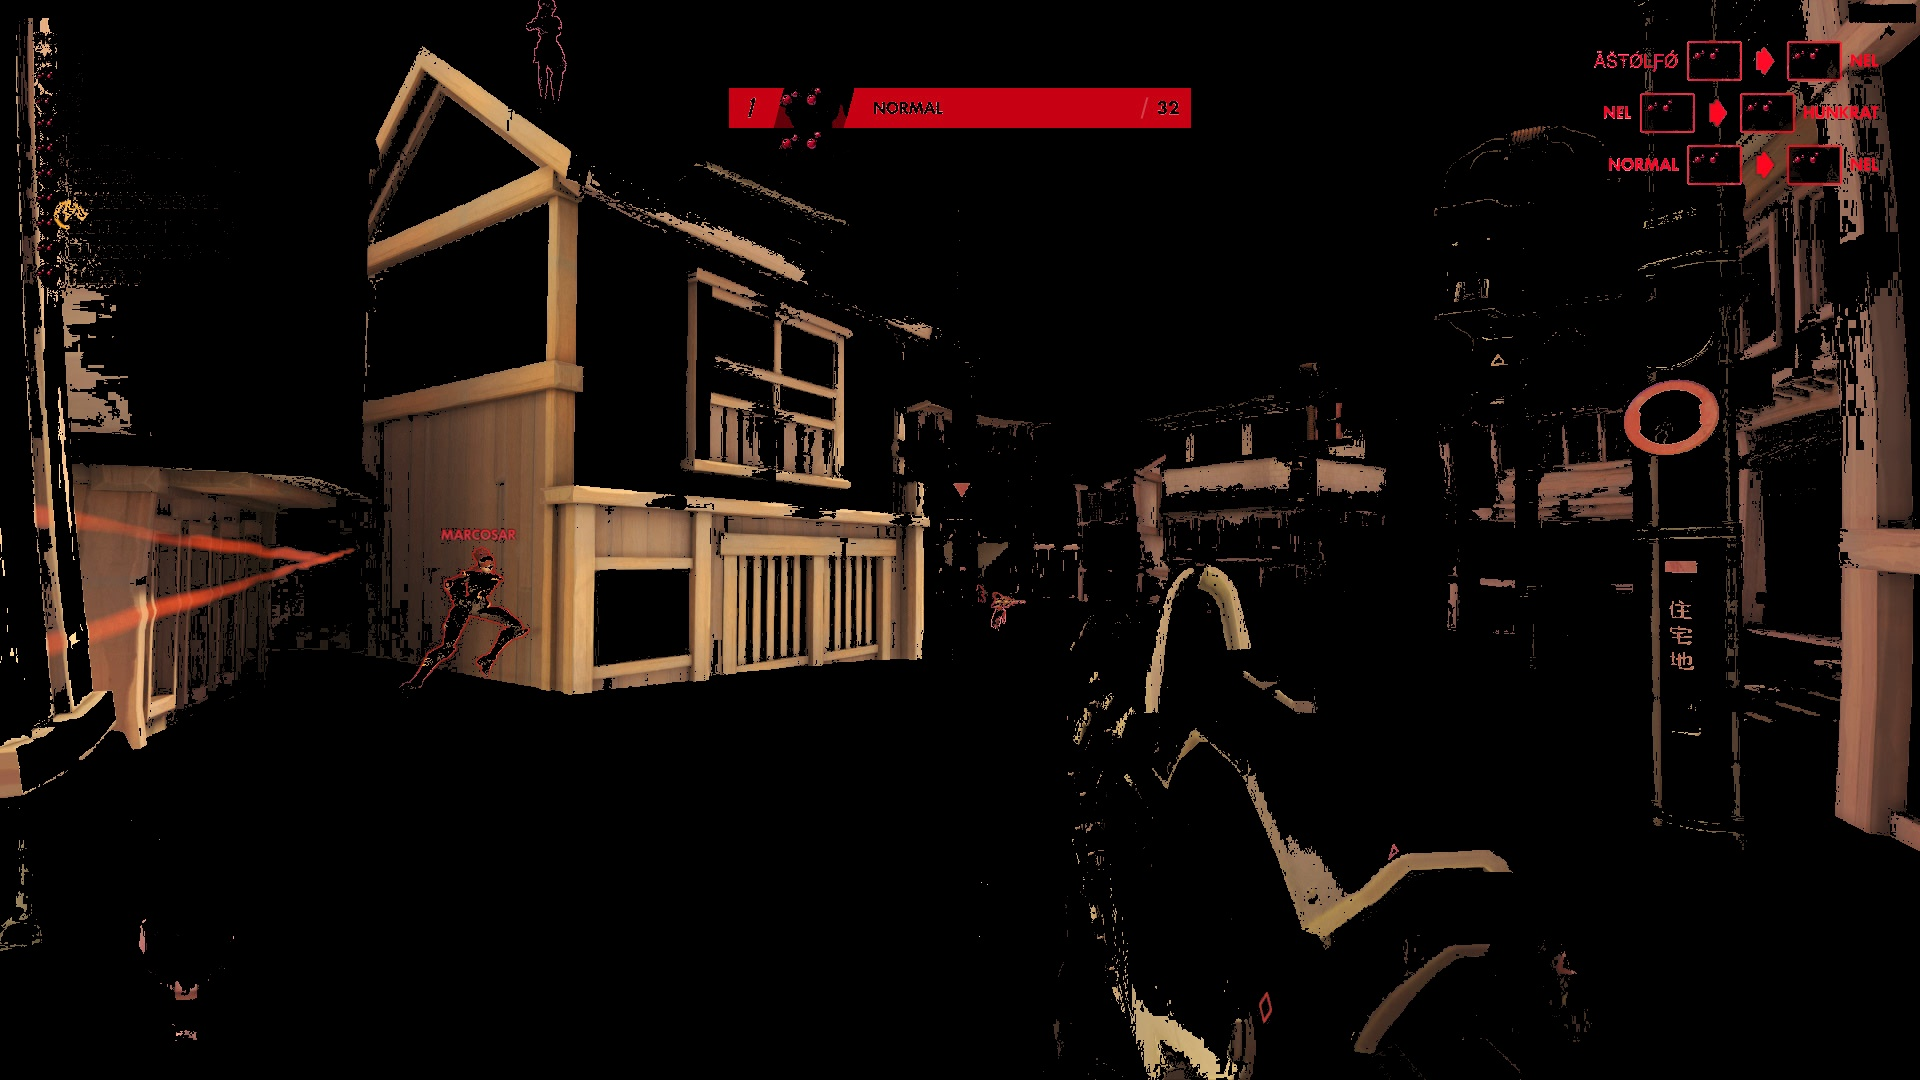widowmaker: (411, 545, 531, 695), (989, 589, 1017, 636), (971, 582, 989, 611)
